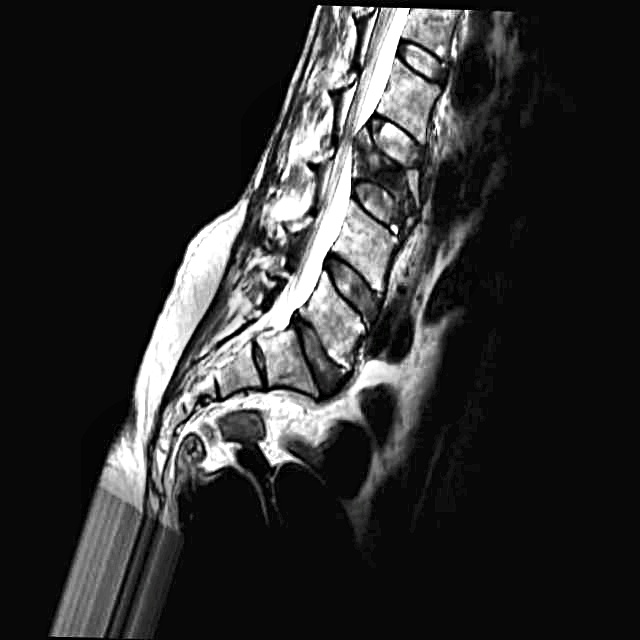Comminuted: (343, 103, 435, 241)
